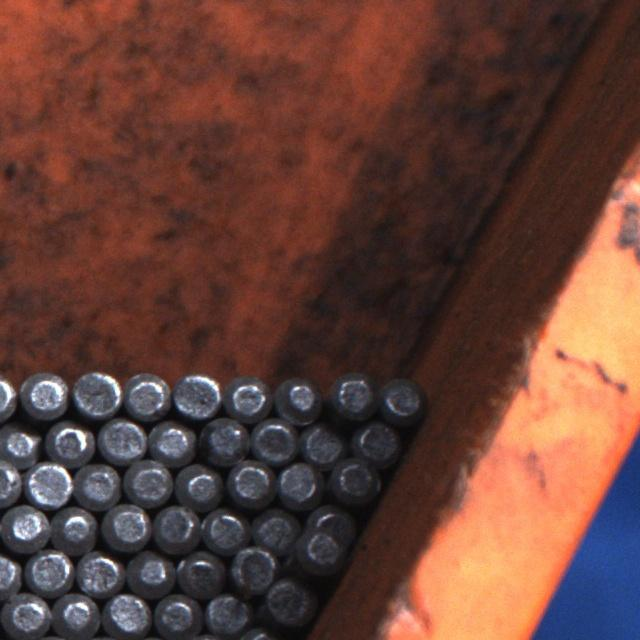tool: (294, 511, 351, 572), (261, 576, 315, 628), (150, 502, 200, 552), (330, 454, 380, 504), (175, 549, 226, 598), (275, 459, 324, 508), (172, 371, 221, 420), (203, 589, 253, 637), (228, 545, 278, 593), (329, 370, 377, 420), (1, 502, 49, 551), (122, 371, 170, 420), (72, 369, 121, 417), (124, 457, 172, 505), (98, 416, 146, 464), (1, 591, 49, 639), (200, 506, 248, 554), (125, 549, 173, 597), (250, 506, 298, 554), (52, 591, 101, 638), (102, 501, 149, 550), (21, 369, 68, 418), (226, 459, 273, 507), (249, 417, 297, 464), (199, 416, 247, 463), (45, 419, 93, 466), (147, 418, 195, 465), (301, 420, 348, 468), (224, 372, 271, 420), (353, 418, 401, 465), (74, 460, 121, 507), (177, 462, 225, 508), (26, 459, 72, 507), (152, 592, 200, 638), (52, 502, 98, 550), (277, 374, 323, 422), (379, 375, 425, 423), (25, 547, 72, 593), (75, 550, 122, 596), (104, 590, 150, 635), (0, 420, 41, 466), (0, 454, 22, 504), (0, 549, 21, 595)
